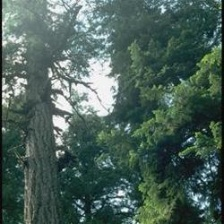neutral: (5, 1, 220, 223)
